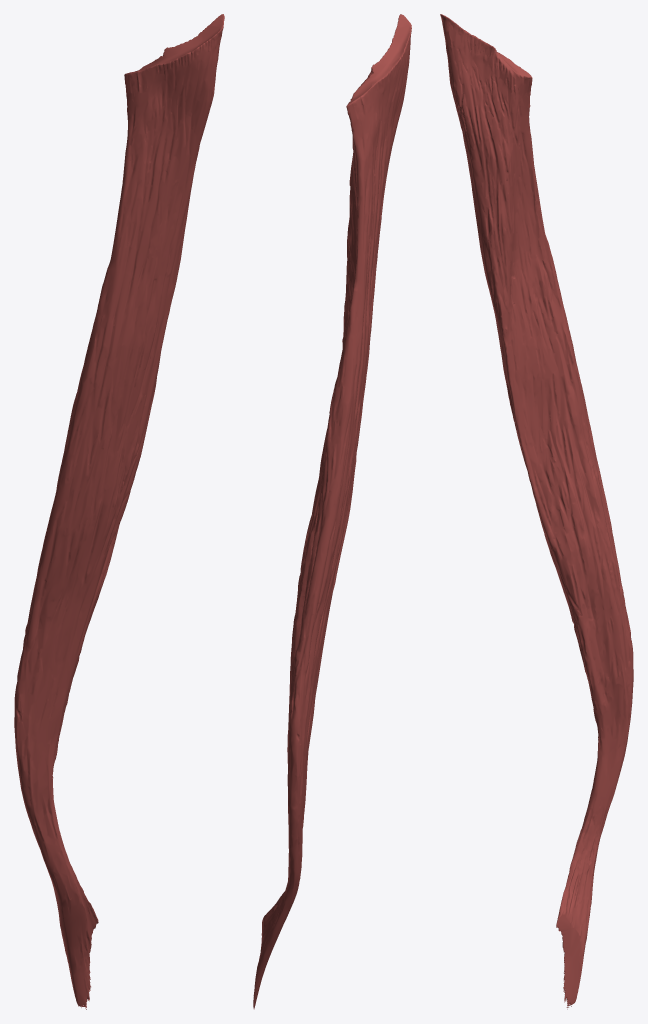
The model's file is FMA43884.glb.
3 renders of one model, left to right at view 1: azimuth 90°, elevation 25°; view 2: azimuth 150°, elevation 25°; view 3: azimuth 270°, elevation 25°, orthographic. The views are drawn at different scales.
Parts seen in each view (by area): view 1: FMA43884; view 2: FMA43884; view 3: FMA43884.
Boxes of the visible parts, box(x1,y1,x2,y2) form: FMA43884: box(14, 14, 224, 1009); FMA43884: box(253, 14, 411, 1009); FMA43884: box(440, 14, 633, 1009).
Bounding box in the file's own units: 0.0519 × 0.4776 × 0.0877.
